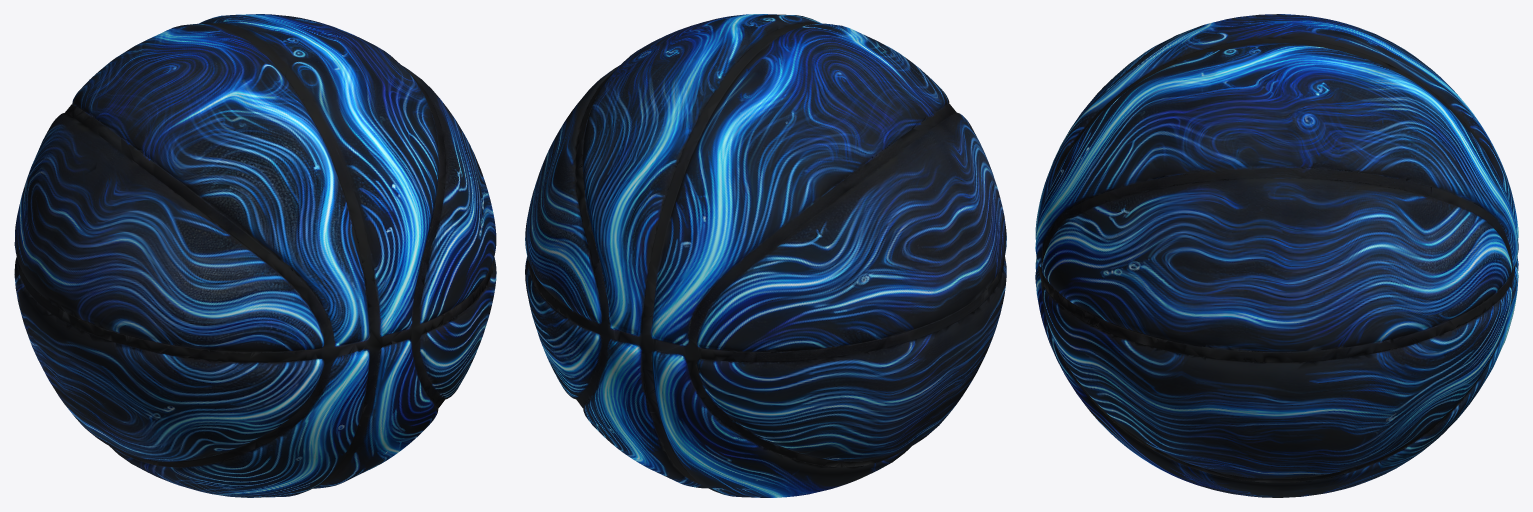
File: palla_blu_mobile.glb
3 renders of one model, left to right at view 1: azimuth 30°, elevation 25°; view 2: azimuth 150°, elevation 25°; view 3: azimuth 270°, elevation 25°, orthographic.
Parts seen in each view (by area): view 1: node_0; view 2: node_0; view 3: node_0.
Part boxes in pixels (x1=…): node_0: x1=14, y1=14, x2=496, y2=497; node_0: x1=525, y1=14, x2=1006, y2=497; node_0: x1=1035, y1=14, x2=1518, y2=497.
Bounding box in the file's own units: 1.19 × 1.19 × 1.19.
1 material, 1 textured.
